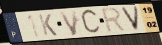1: (27, 14, 40, 38)
C: (80, 8, 102, 36)
K: (38, 13, 60, 37)
R: (101, 7, 128, 35)
V: (119, 5, 141, 32), (58, 9, 78, 37)
